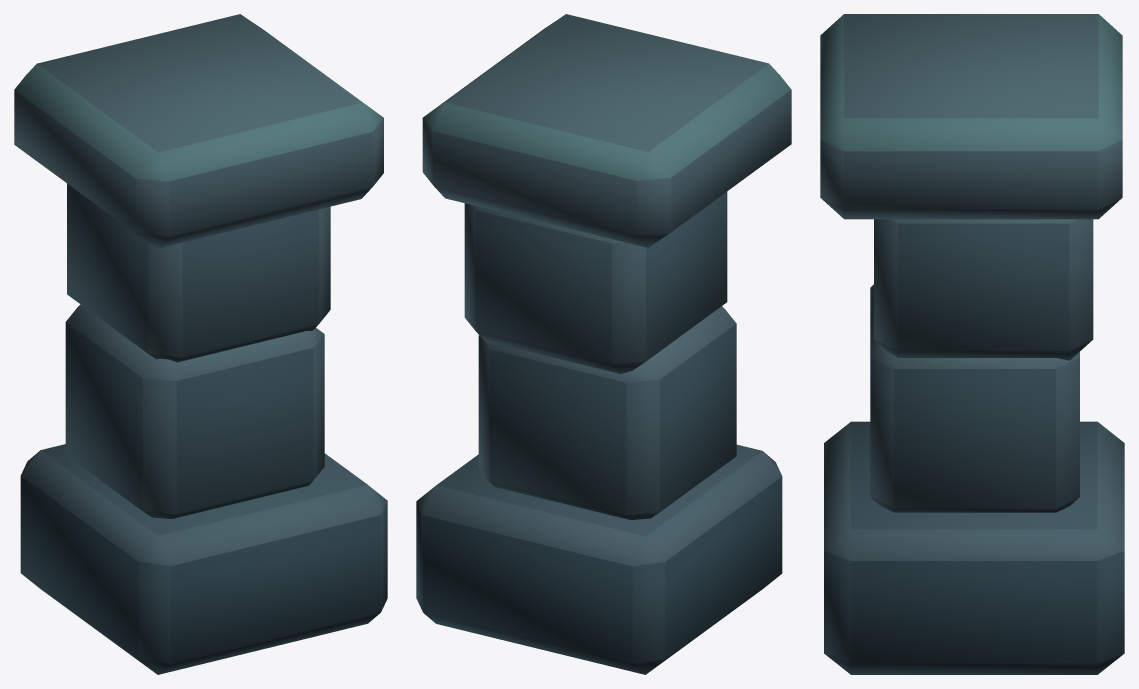
File: fence_pillar_2.fbx
The picture shows the model from 3 angles, left to right: view 1: azimuth 30°, elevation 25°; view 2: azimuth 150°, elevation 25°; view 3: azimuth 270°, elevation 25°; orthographic projection. The views are drawn at different scales.
Parts seen in each view (by area): view 1: fence_pillar_2; view 2: fence_pillar_2; view 3: fence_pillar_2.
Part boxes in pixels (box(x1,y1,x2,y2)): fence_pillar_2: box(14, 14, 387, 674); fence_pillar_2: box(416, 14, 791, 674); fence_pillar_2: box(820, 14, 1124, 674).
Bounding box in the file's own units: 77.8 × 153 × 76.56.
